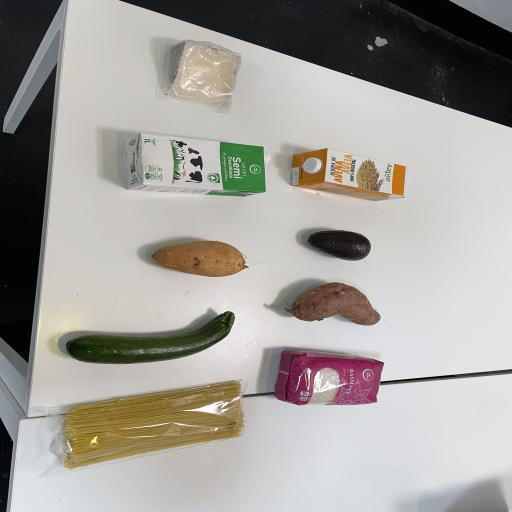avocado: (296, 225, 380, 264)
courgette: (59, 304, 243, 368)
cured_goat_cheese: (154, 39, 246, 109)
milk: (113, 133, 273, 197)
oat_milk: (288, 146, 418, 207)
rice: (264, 347, 392, 412)
spaghetti: (56, 375, 252, 472)
sweet_potato: (273, 277, 393, 329), (143, 237, 248, 281)
